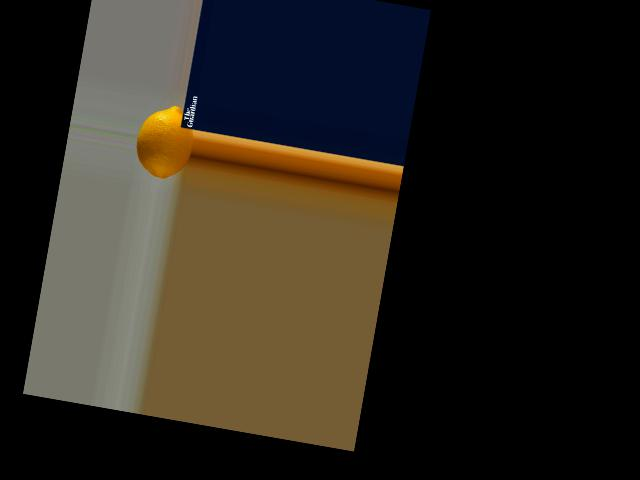lemon: (130, 96, 200, 186)
